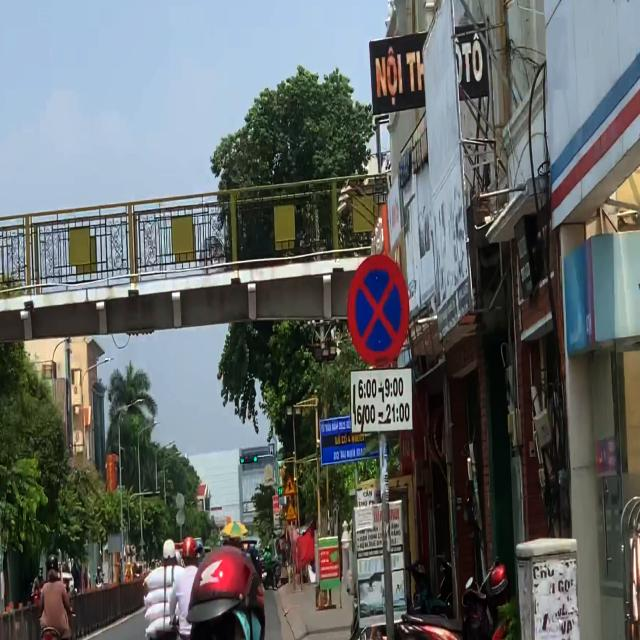Cam dung va do: (345, 249, 412, 374)
Giao voi duong khong uu tien: (283, 473, 296, 499)
